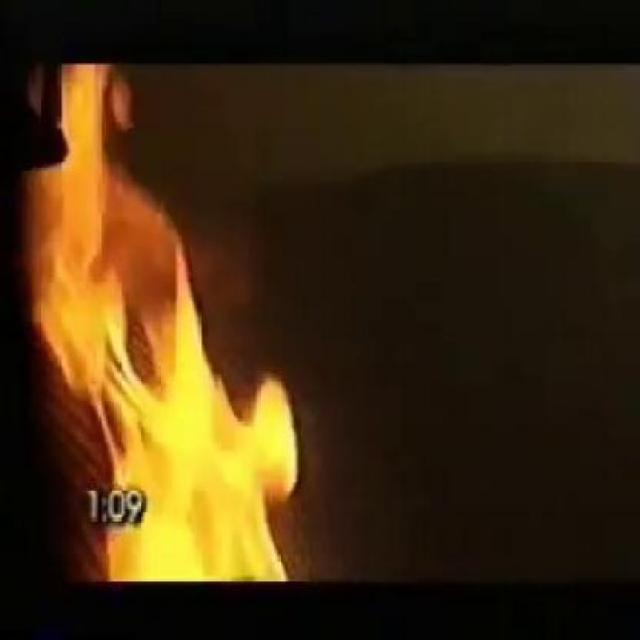fire: (22, 64, 304, 584)
